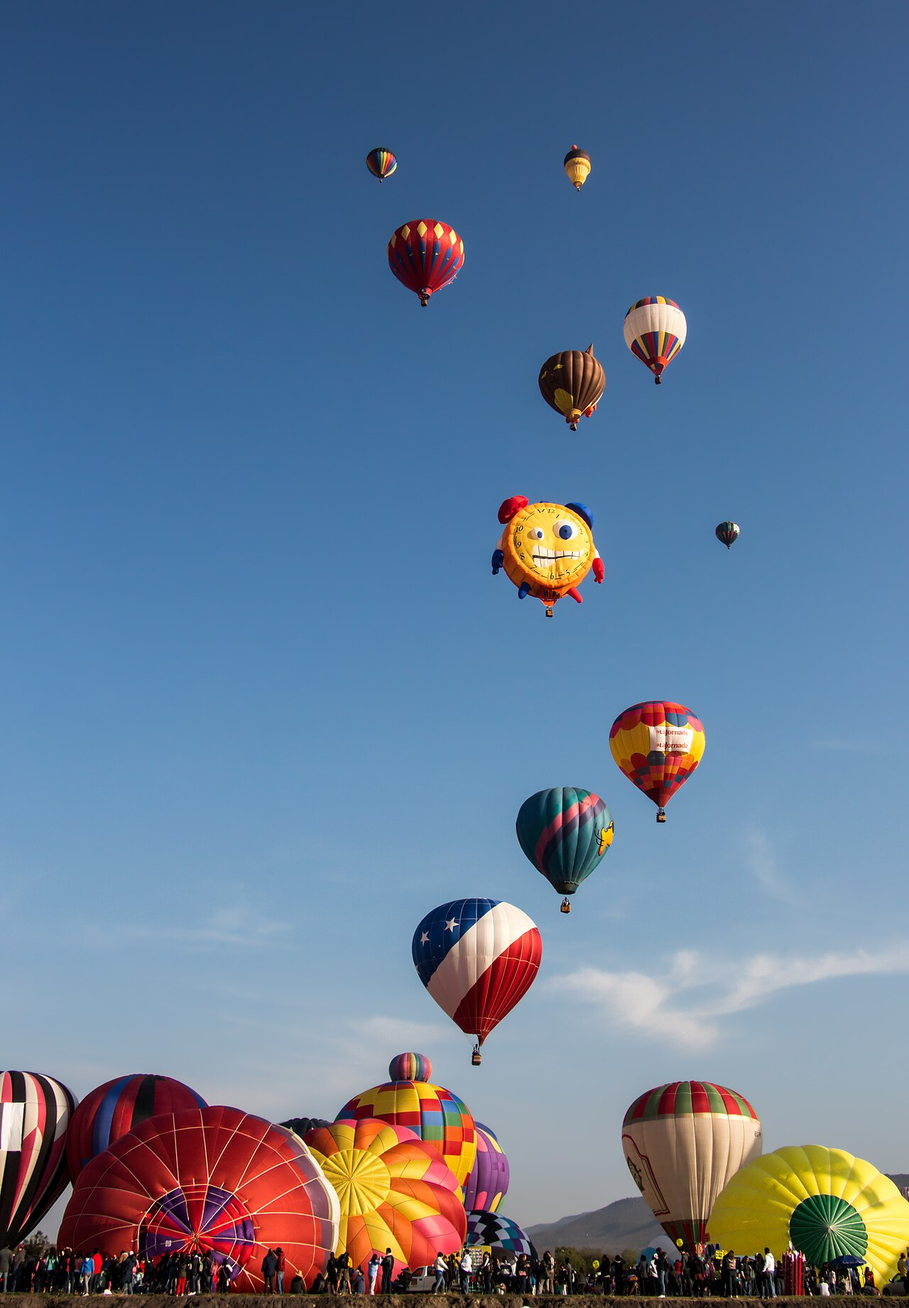balloon: (56, 1104, 342, 1294), (705, 1143, 909, 1290), (301, 1117, 467, 1290), (620, 1079, 764, 1256), (411, 896, 544, 1066), (335, 1080, 478, 1214), (65, 1073, 210, 1193), (491, 494, 605, 619), (0, 1069, 77, 1249), (514, 785, 615, 913), (608, 700, 706, 824), (386, 215, 465, 307), (537, 344, 606, 433), (622, 293, 688, 385), (463, 1121, 511, 1215), (463, 1209, 540, 1266), (387, 1052, 433, 1088), (277, 1116, 332, 1144), (365, 135, 398, 181), (564, 136, 593, 187), (714, 519, 741, 551)
